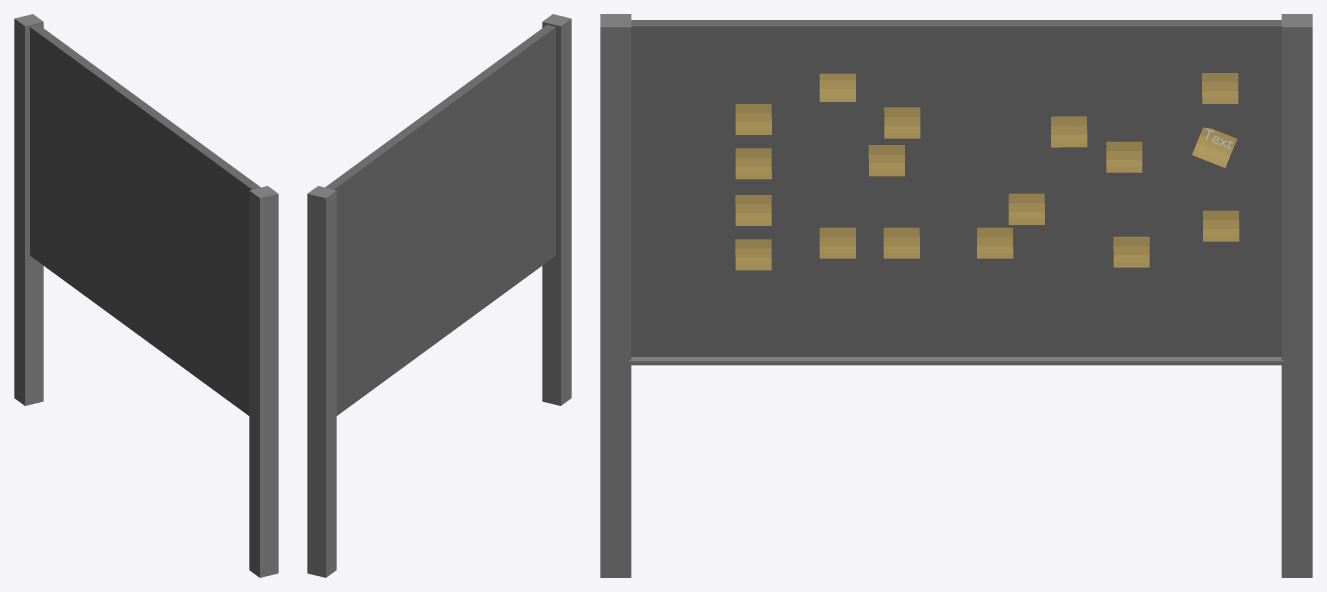
File: WhiteBoard V2.fbx
The picture shows the model from 3 angles, left to right: view 1: azimuth 30°, elevation 25°; view 2: azimuth 150°, elevation 25°; view 3: azimuth 270°, elevation 25°; orthographic projection. The views are drawn at different scales.
Visible parts, largest first — view 1: WhiteBoard; view 2: WhiteBoard; view 3: WhiteBoard.
Part boxes in pixels (x1,y1,x2,y2): WhiteBoard: [14, 14, 278, 577]; WhiteBoard: [307, 14, 571, 577]; WhiteBoard: [600, 14, 1312, 577].
Size of the model in its own units: 18.58 by 334 by 391.
